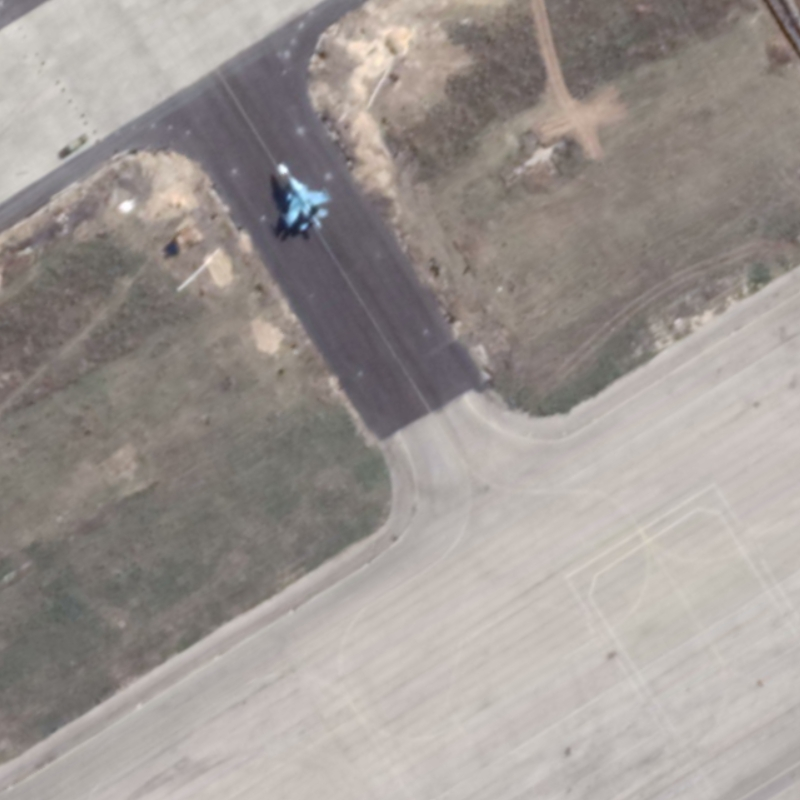A19: (274, 160, 333, 234)
